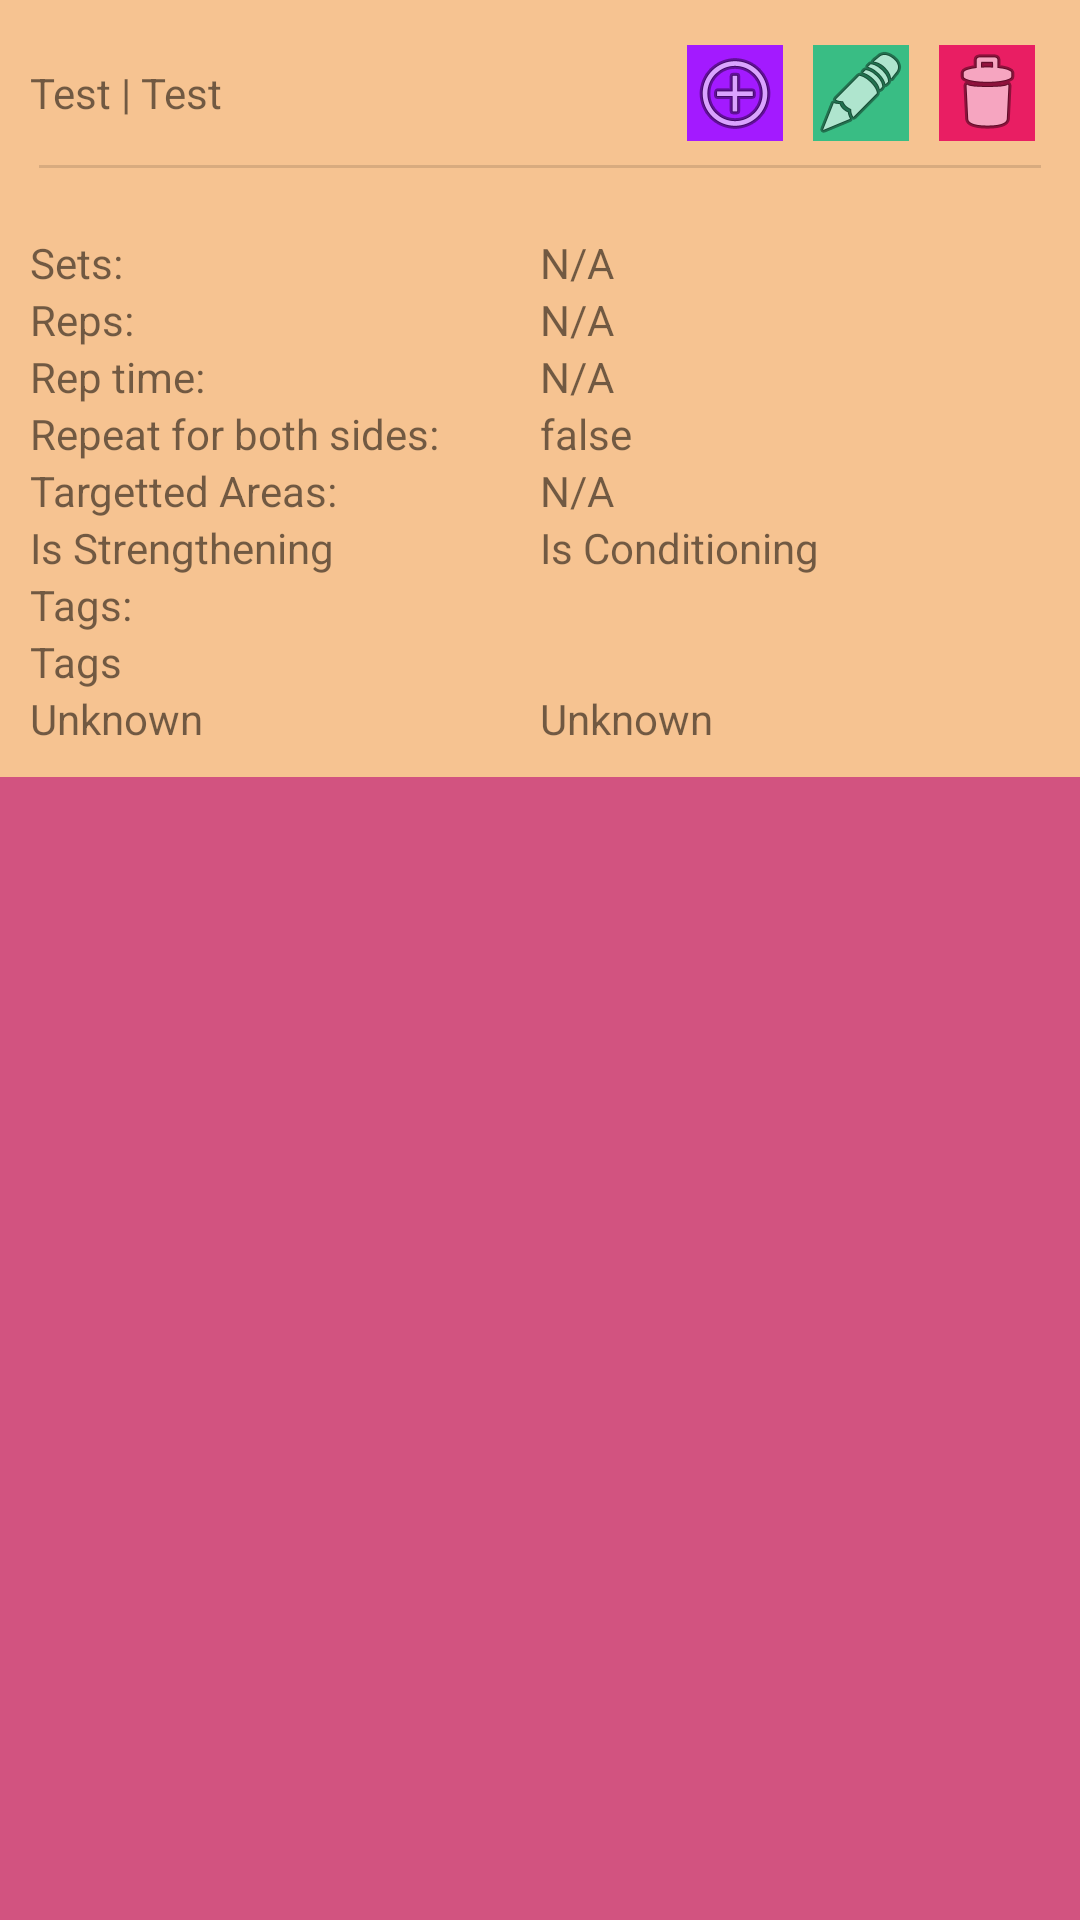

Screen size 1080 x 1920. Icon name, then its box in pixels as (x1, y1, x2, y2):
add: (687, 45, 783, 141)
delete: (939, 45, 1035, 141)
edit: (813, 45, 909, 141)
